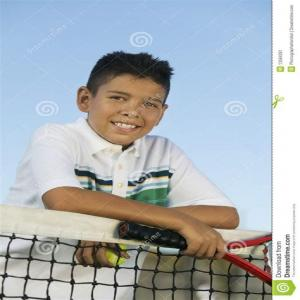Tennis: (96, 241, 132, 267)
